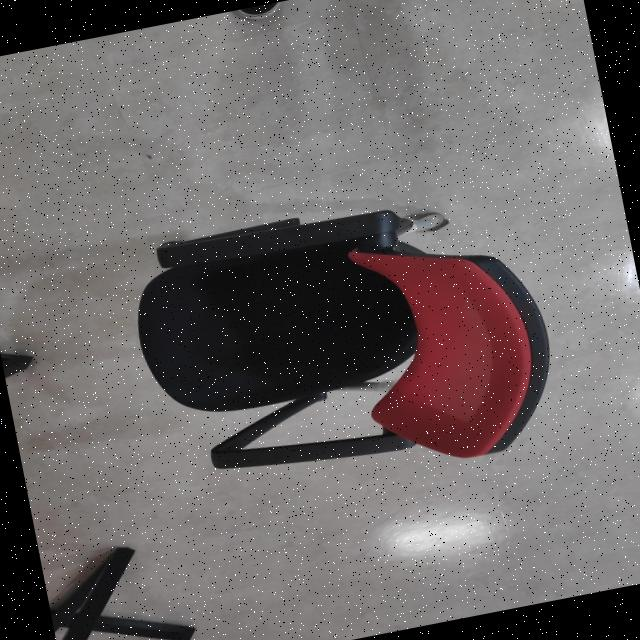Chair: (71, 132, 624, 554)
